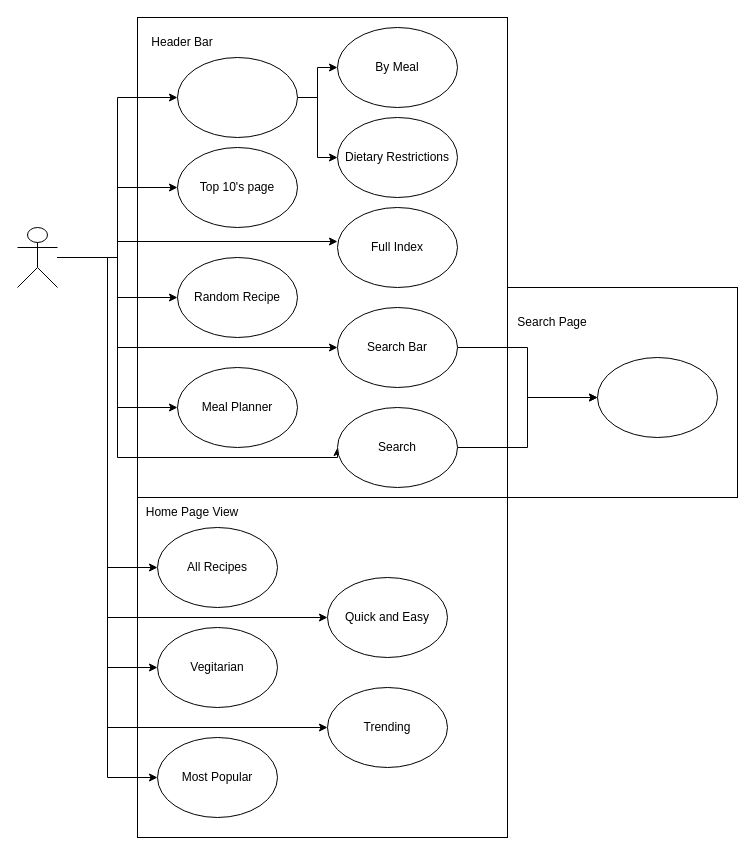
The diagram is 755 pixels wide and 855 high, and some of its shapes have lost their labels. The box of each missing label's shape, as (x1, y1, x2, y2) in pixels:
Actor: (16, 226, 58, 288)
Browse: (176, 56, 298, 138)
Search Results: (596, 356, 718, 438)
